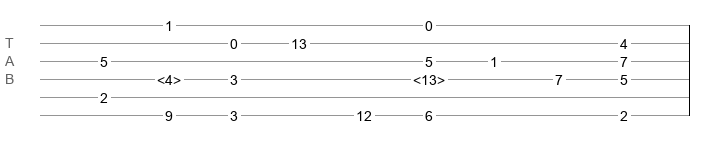0: (230, 36, 238, 46), (425, 18, 433, 28)
1: (165, 18, 173, 28), (490, 54, 498, 64)
12: (356, 108, 372, 118)
13: (291, 36, 307, 46)
2: (100, 90, 108, 100), (620, 108, 628, 118)
3: (230, 72, 238, 82), (230, 108, 238, 118)
4: (620, 36, 628, 46)
5: (100, 54, 108, 64), (425, 54, 433, 64), (620, 72, 628, 82)
6: (425, 108, 433, 118)
7: (555, 72, 563, 82), (620, 54, 628, 64)
9: (165, 108, 173, 118)
harmonic: (413, 72, 445, 82), (157, 72, 181, 82)
